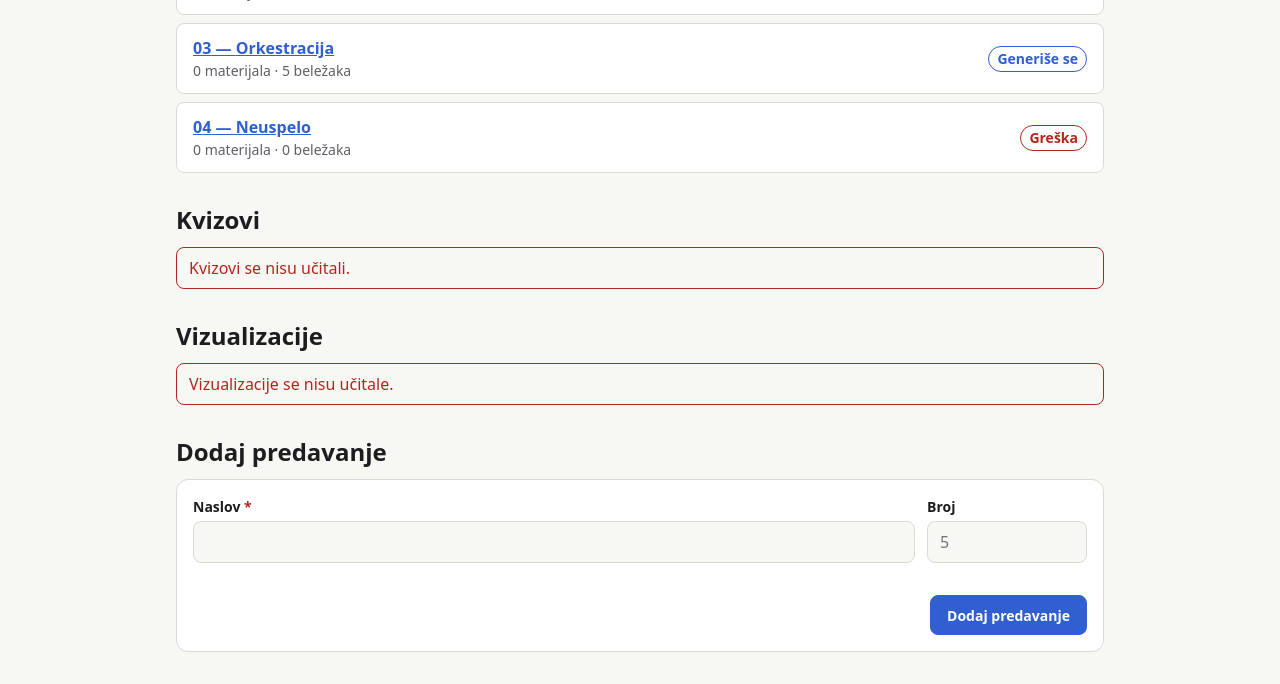
Scenario: CoursePage › shows a 409 conflict inline
(page scrolled)
Type "Drugo" into the field labelled "Naslov *" at (554, 542), box left=193, top=521, right=915, bottom=563
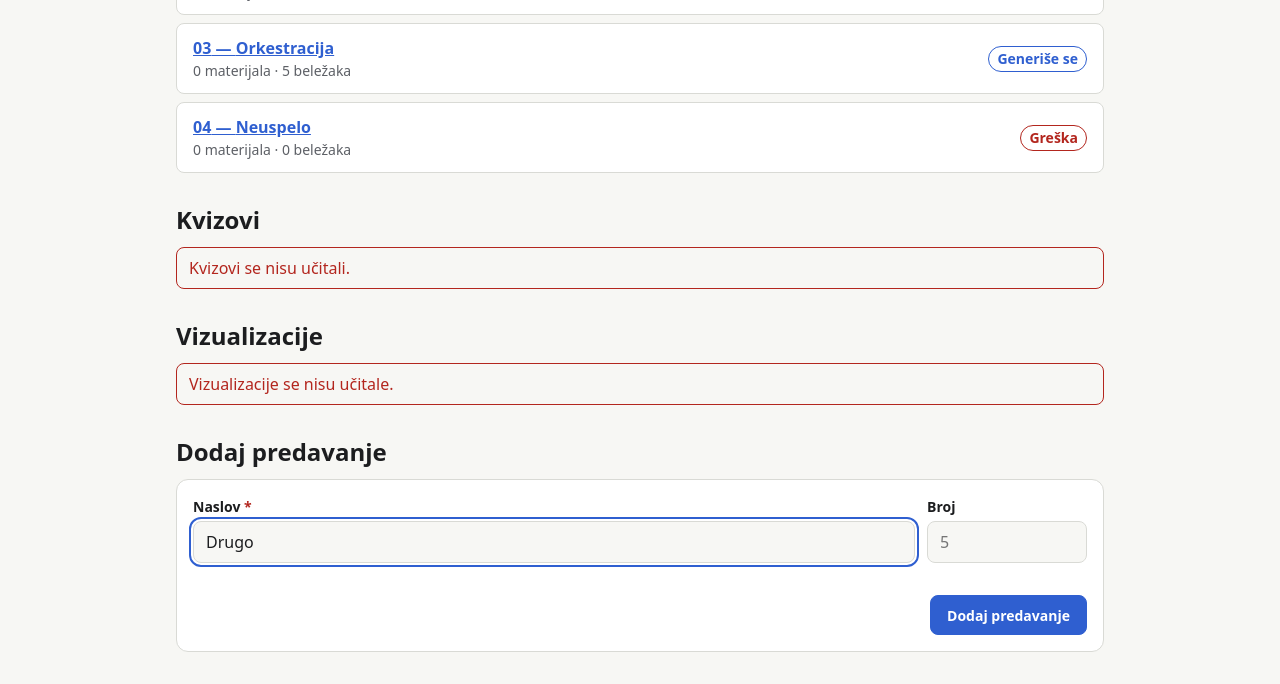
Type "2" into the number field labelled "Broj" at (1007, 542), box left=927, top=521, right=1087, bottom=563
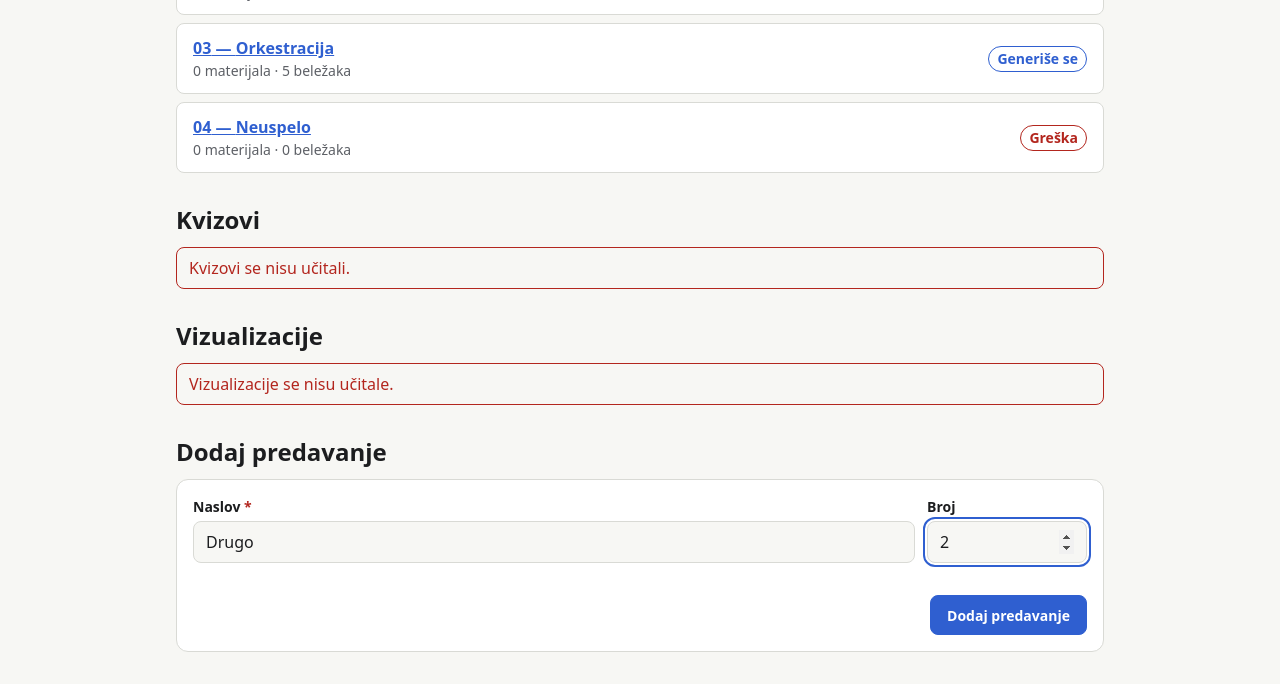
Click the button "Dodaj predavanje" at (1008, 615), box left=930, top=595, right=1087, bottom=635
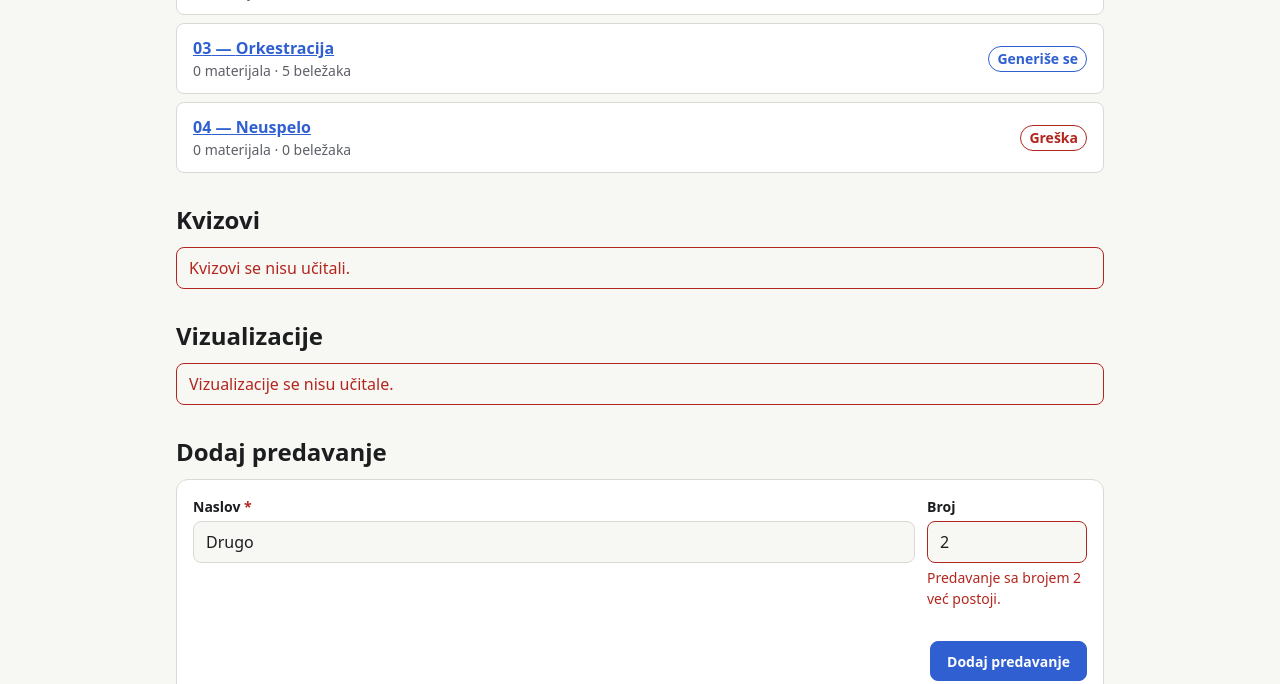
Now the text "Predavanje sa brojem 2 već postoji." is shown, box left=927, top=567, right=1087, bottom=609
